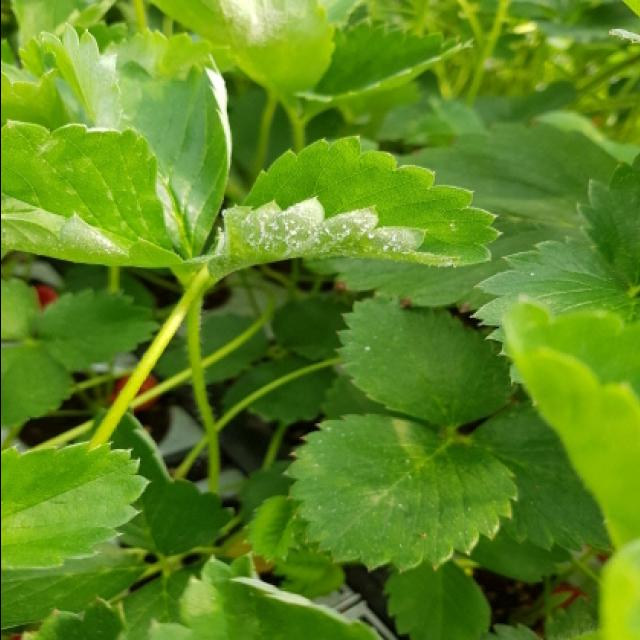Powdery Mildew Leaf: (204, 133, 505, 289), (2, 118, 195, 271)
